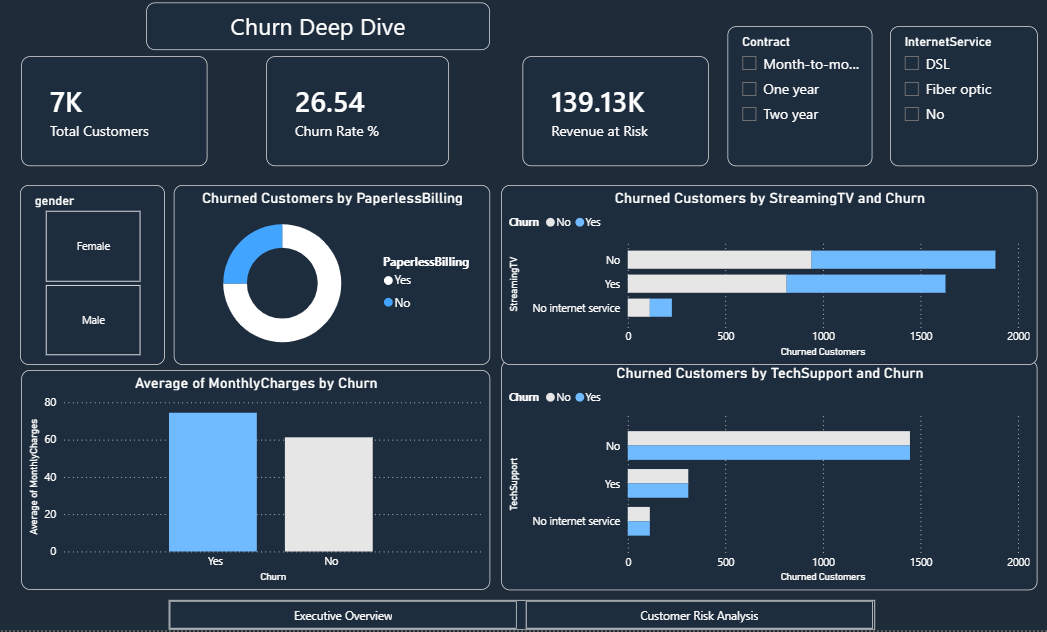

The dashboard page shown, as its layout file describes it:
{"tool":"powerbi","page":{"name":"Churn Deep dive","canvas":[1280,720],"ordinal":2},"visuals":[{"type":"cardVisual","fields":{"Data":["WA_Fn-UseC_-Telco-Customer-Churn.Total Customers"]},"box":[24.3,64.3,212.9,125.7],"z":0},{"type":"cardVisual","fields":{"Data":["WA_Fn-UseC_-Telco-Customer-Churn.Churn Rate %"]},"box":[304.3,64.3,208.6,125.7],"z":1000},{"type":"cardVisual","fields":{"Data":["WA_Fn-UseC_-Telco-Customer-Churn.Revenue at Risk"]},"box":[597.1,64.3,212.9,125.7],"z":2000},{"type":"slicer","fields":{"Values":["WA_Fn-UseC_-Telco-Customer-Churn.Contract"]},"box":[831.4,30,165.7,160],"z":3000},{"type":"slicer","fields":{"Values":["WA_Fn-UseC_-Telco-Customer-Churn.InternetService"]},"box":[1017.1,30,168.6,160],"z":4000},{"type":"clusteredBarChart","fields":{"Category":["WA_Fn-UseC_-Telco-Customer-Churn.TechSupport"],"Y":["WA_Fn-UseC_-Telco-Customer-Churn.Churned Customers"],"Series":["WA_Fn-UseC_-Telco-Customer-Churn.Churn"]},"box":[572.9,411.4,612.9,262.9],"z":5000},{"type":"slicer","fields":{"Values":["WA_Fn-UseC_-Telco-Customer-Churn.gender"]},"box":[22.9,211.4,165.7,205.7],"z":9000},{"type":"barChart","fields":{"Category":["WA_Fn-UseC_-Telco-Customer-Churn.StreamingTV"],"Series":["WA_Fn-UseC_-Telco-Customer-Churn.Churn"],"Y":["WA_Fn-UseC_-Telco-Customer-Churn.Churned Customers"]},"box":[572.9,211.4,612.9,205.7],"z":9001},{"type":"clusteredColumnChart","fields":{"Category":["WA_Fn-UseC_-Telco-Customer-Churn.Churn"],"Y":["Avg(WA_Fn-UseC_-Telco-Customer-Churn.MonthlyCharges)"]},"box":[24.3,422.9,535.7,251.4],"z":9002},{"type":"donutChart","fields":{"Category":["WA_Fn-UseC_-Telco-Customer-Churn.PaperlessBilling"],"Y":["WA_Fn-UseC_-Telco-Customer-Churn.Churned Customers"]},"box":[198.6,211.4,361.4,205.7],"z":9003},{"type":"pageNavigator","box":[192.9,685.7,807.1,34.3],"z":9004},{"type":"textbox","box":[167.1,2.9,392.9,54.3],"z":9005}]}

Visuals, with their boxes on the page's 1280x720 design canvas (x1, y1, x2, y2). These are canvas units, not pixel positions in the 1047x632 screenshot, which may show the page scaled, cropped or inside an application window:
cardVisual - WA_Fn-UseC_-Telco-Customer-Churn.Total Customers: detection(24, 64, 237, 190)
cardVisual - WA_Fn-UseC_-Telco-Customer-Churn.Churn Rate %: detection(304, 64, 513, 190)
cardVisual - WA_Fn-UseC_-Telco-Customer-Churn.Revenue at Risk: detection(597, 64, 810, 190)
slicer - WA_Fn-UseC_-Telco-Customer-Churn.Contract: detection(831, 30, 997, 190)
slicer - WA_Fn-UseC_-Telco-Customer-Churn.InternetService: detection(1017, 30, 1186, 190)
clusteredBarChart - WA_Fn-UseC_-Telco-Customer-Churn.TechSupport x WA_Fn-UseC_-Telco-Customer-Churn.Churned Customers: detection(573, 411, 1186, 674)
slicer - WA_Fn-UseC_-Telco-Customer-Churn.gender: detection(23, 211, 189, 417)
barChart - WA_Fn-UseC_-Telco-Customer-Churn.StreamingTV x WA_Fn-UseC_-Telco-Customer-Churn.Churn: detection(573, 211, 1186, 417)
clusteredColumnChart - WA_Fn-UseC_-Telco-Customer-Churn.Churn x Avg(WA_Fn-UseC_-Telco-Customer-Churn.MonthlyCharges): detection(24, 423, 560, 674)
donutChart - WA_Fn-UseC_-Telco-Customer-Churn.PaperlessBilling x WA_Fn-UseC_-Telco-Customer-Churn.Churned Customers: detection(199, 211, 560, 417)
pageNavigator: detection(193, 686, 1000, 720)
textbox: detection(167, 3, 560, 57)
